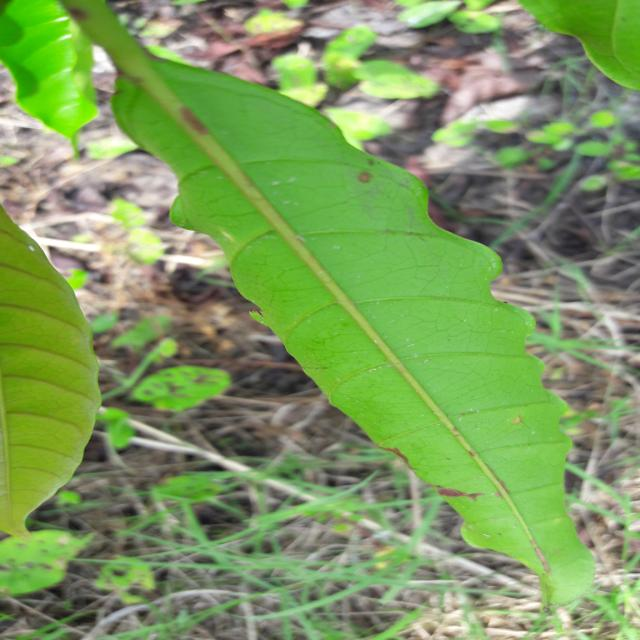Plaga-AranaRoja: (55, 0, 597, 613)
